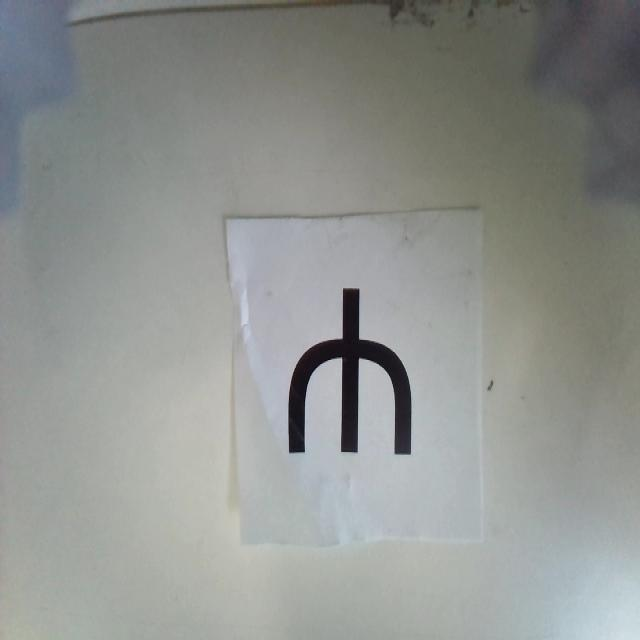nedoF: (286, 286, 413, 455)
